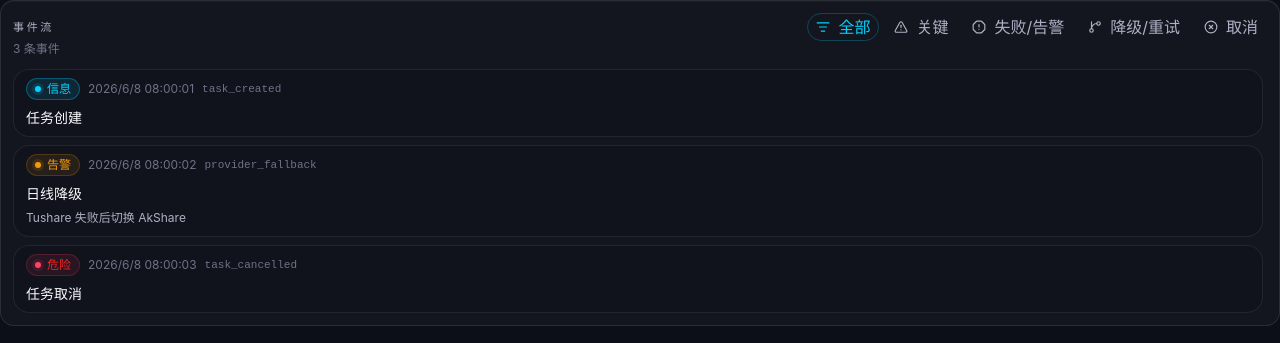
RunFlowEventList › filters fallback and cancellation events with visible text labels
Check: the text "任务创建" is shown, box [26,109,82,126]
Check: the text "日线降级" is shown, box [26,185,82,202]
Click the button "降级/重试" at (1134, 27), box [1079,13,1189,41]
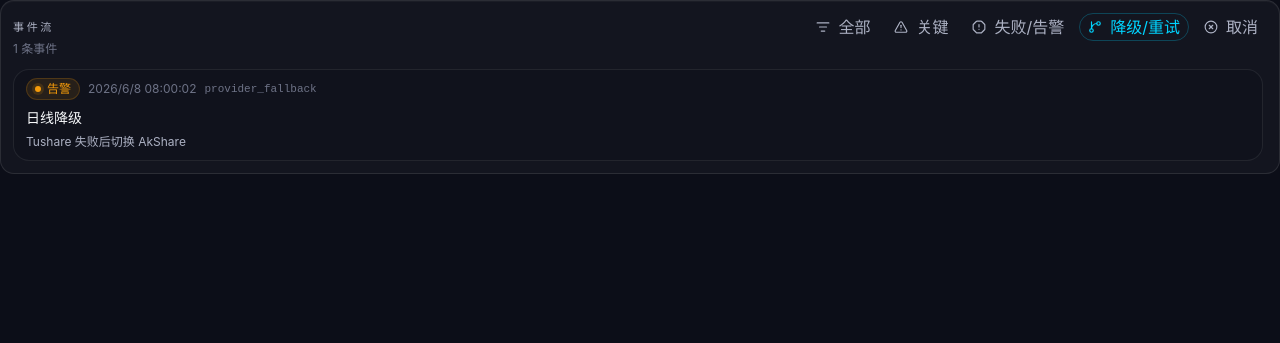
Check: the text "日线降级" is shown, box [26,109,82,126]
Check: the text "任务创建" is gone
Check: the text "任务取消" is gone
Click the button "取消" at (1231, 27), box [1195,13,1267,41]
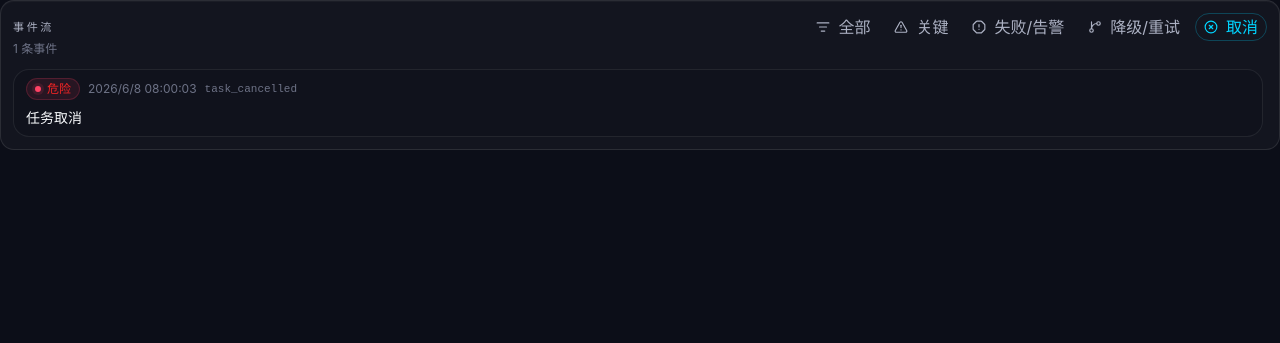
Check: the text "任务取消" is shown, box [26,109,82,126]
Check: the text "日线降级" is gone
Check: the text "危险" is shown, box [26,78,80,100]
